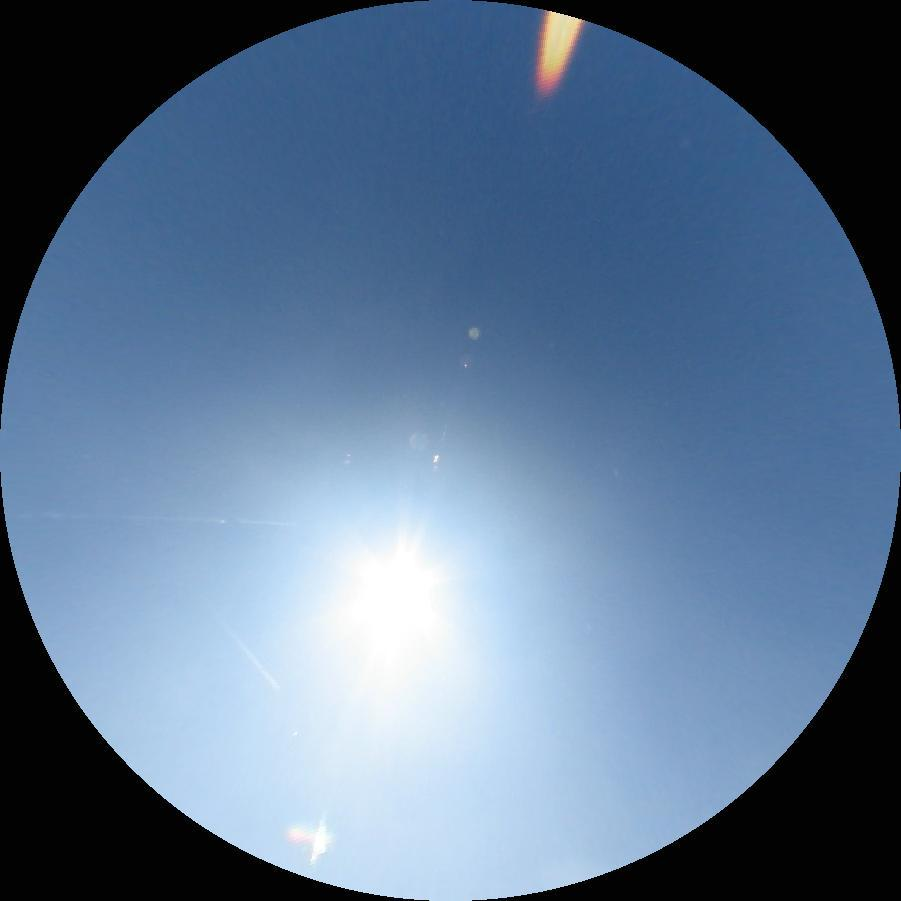contrail young: (192, 587, 278, 688)
parasite: (6, 509, 314, 529)
sun: (342, 540, 448, 652)
